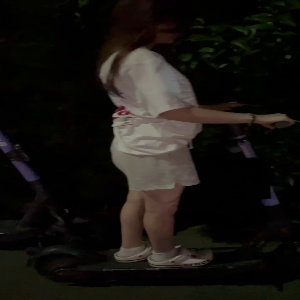human on a scooter: (18, 1, 300, 290)
